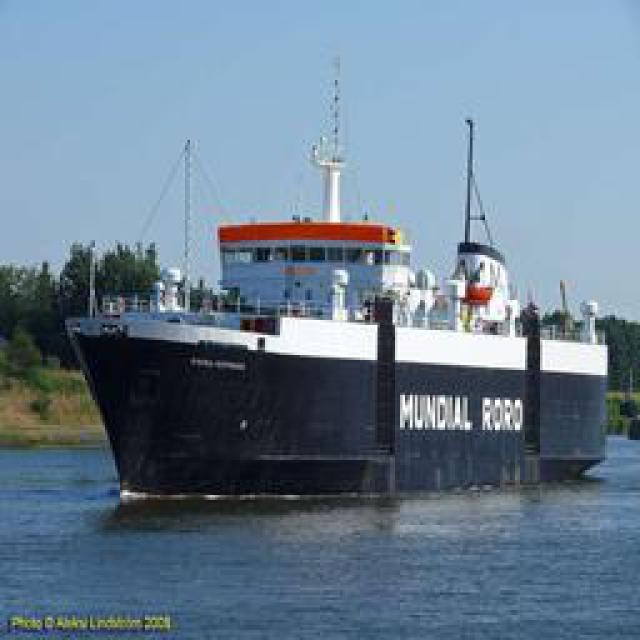Ship: (66, 89, 621, 502)
